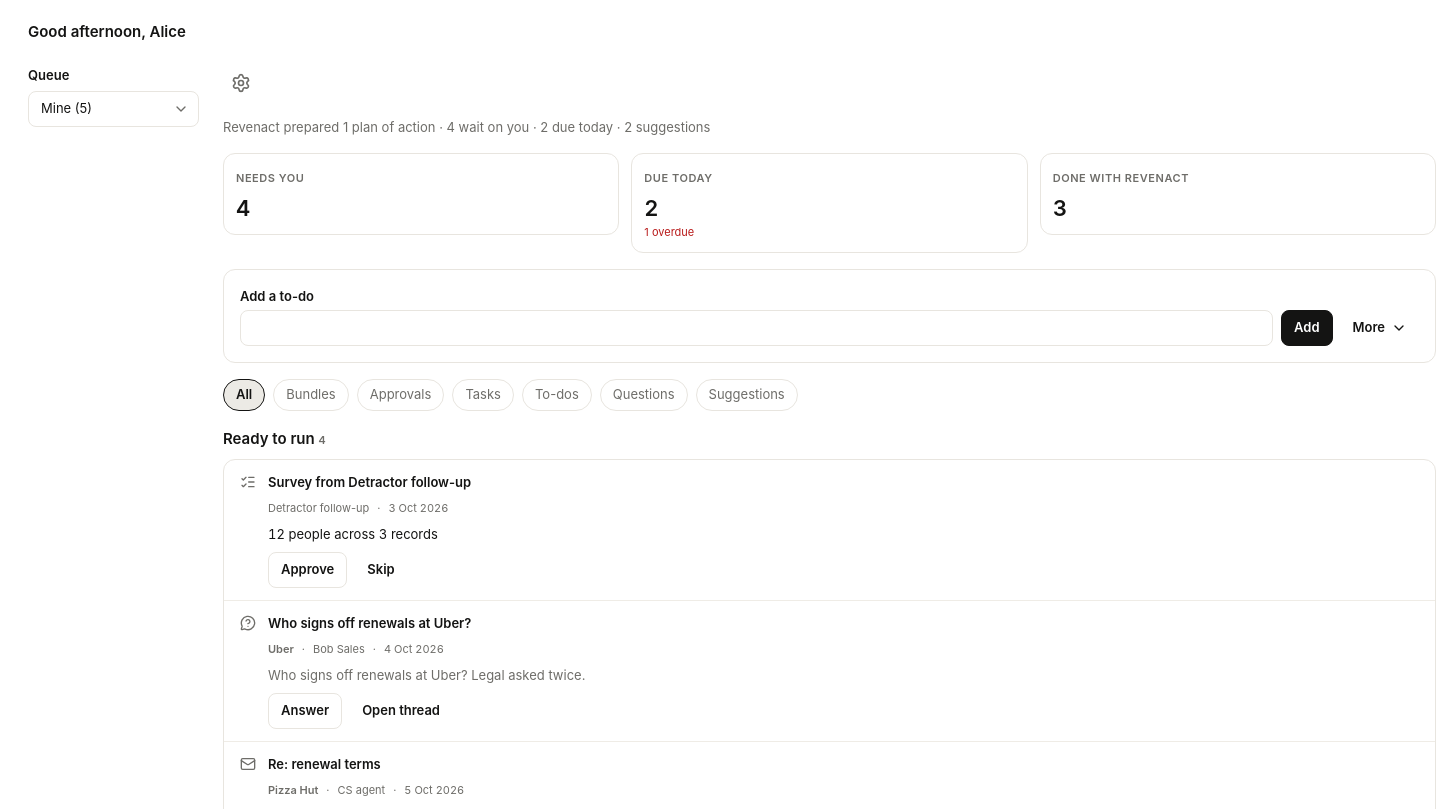
Scenario: Work inbox (spec §8.1) › is a select on phones
Select "History" in the dropdown labelled "Queue" at (114, 109), box [28,91,199,127]
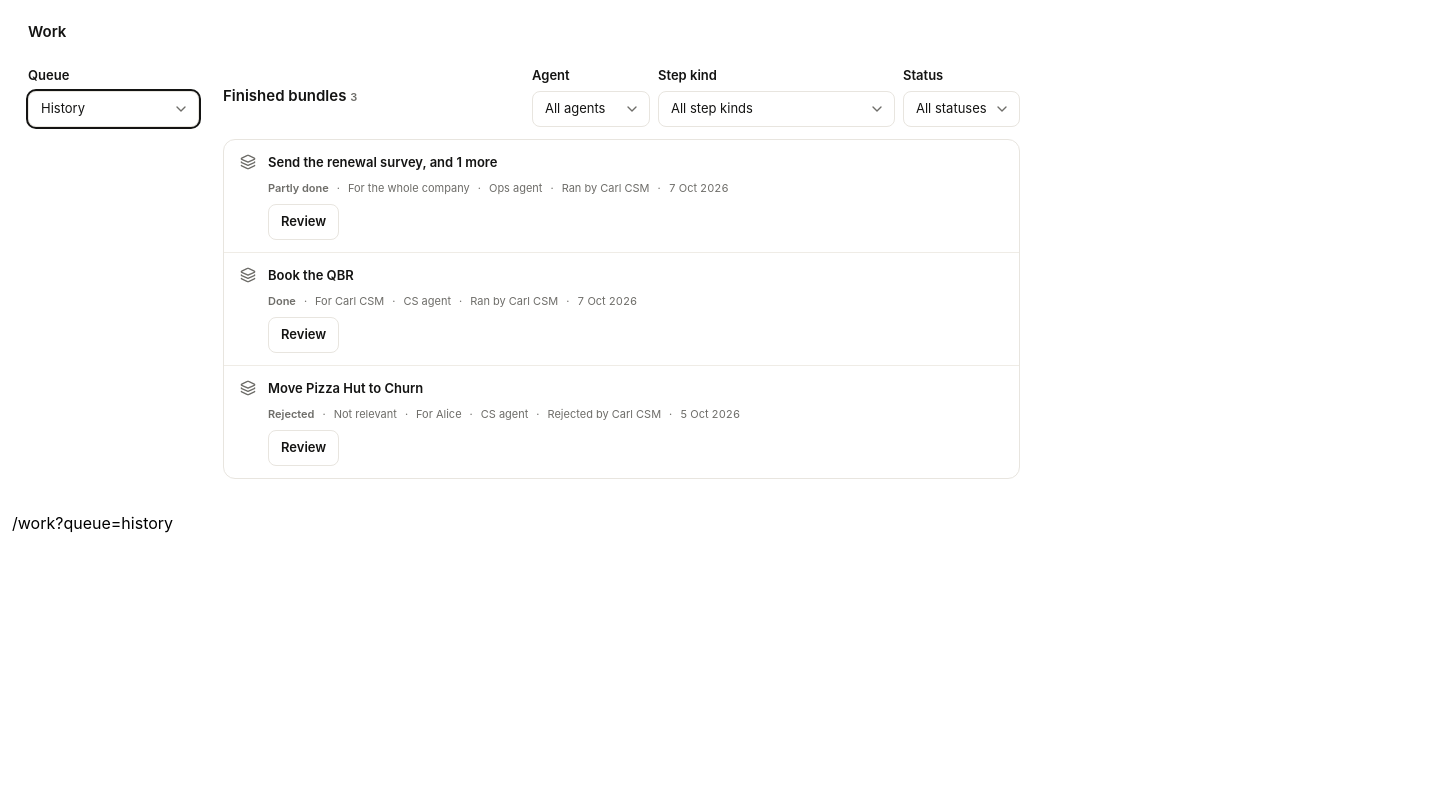
expect the text with test id "where" reads "/work?queue=history": met, box [12,513,173,533]
